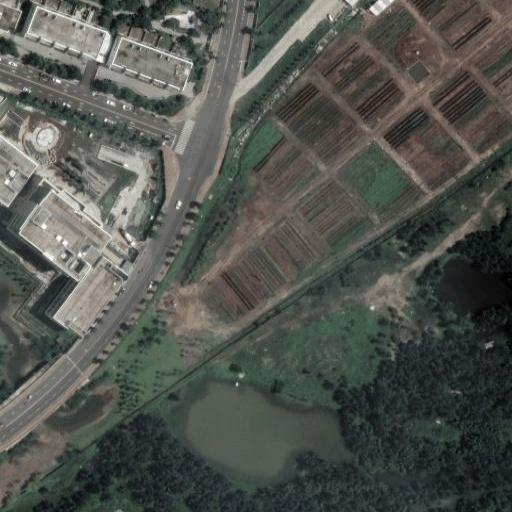building: (6, 184, 102, 275), (41, 250, 119, 333), (111, 37, 193, 90), (27, 7, 106, 58), (39, 177, 102, 229), (118, 260, 134, 278)
